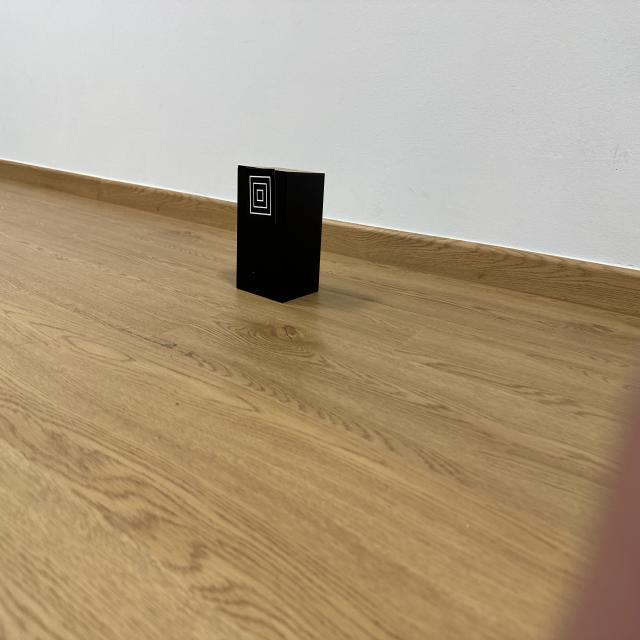BULLSEYE: (246, 168, 276, 224)
